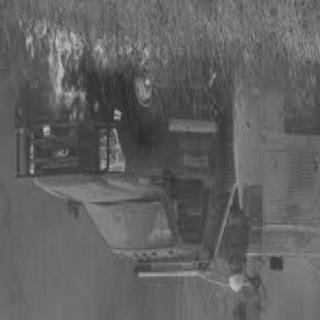Fire: (193, 51, 219, 99)
